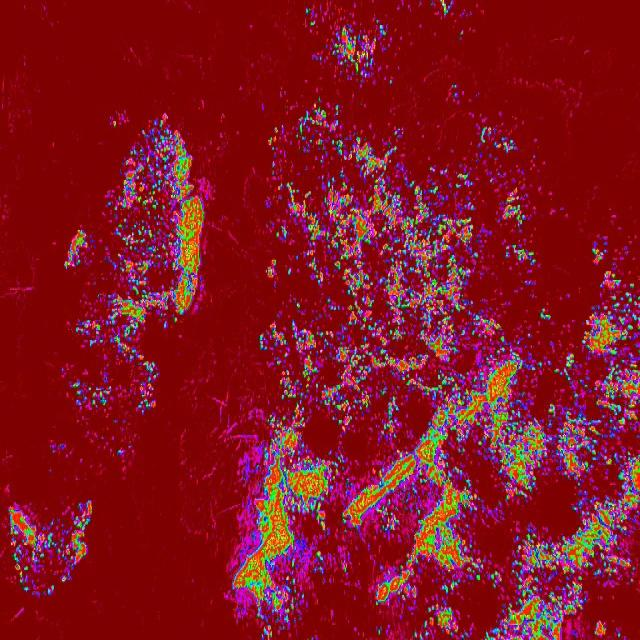fire: (257, 100, 541, 640), (541, 292, 640, 640), (104, 119, 206, 322), (60, 312, 161, 418), (5, 494, 96, 598), (224, 441, 257, 610), (321, 16, 394, 78), (589, 219, 640, 293), (57, 221, 93, 275)
